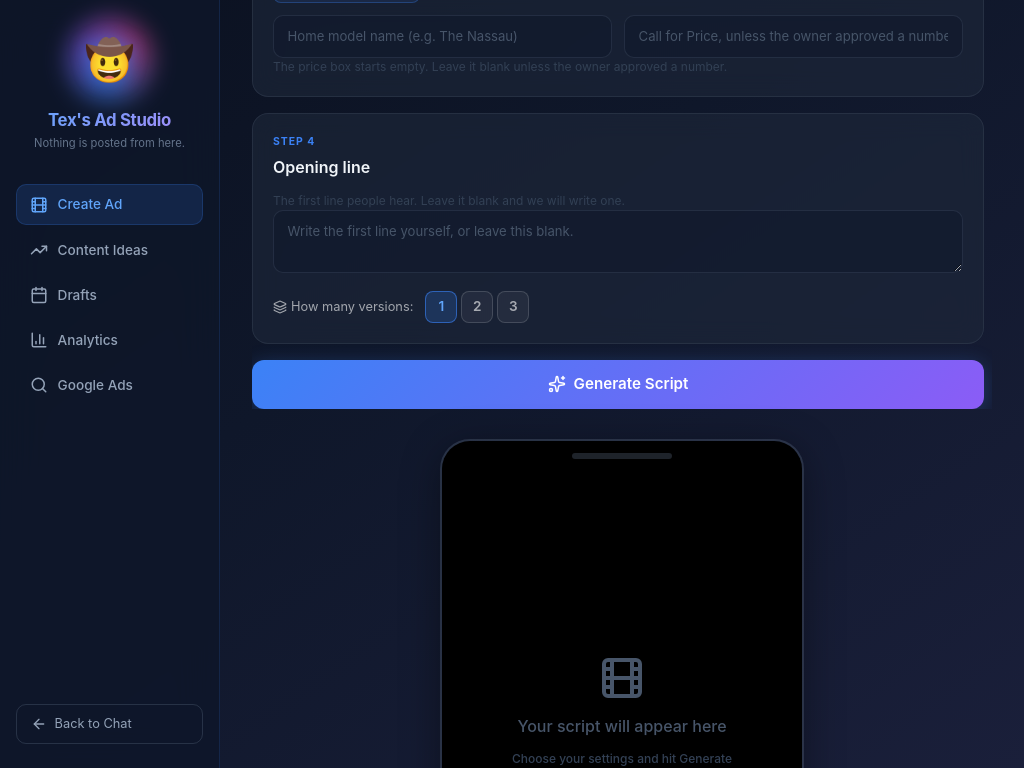
Test case: Ad Studio prepare draft › keeps the preview open when preparation returns an error field on HTTP 200
This screenshot has width=1024, height=768.
(page scrolled)
Click the button "Generate Script" at [618, 384], box [252,360,984,410]
(page scrolled)
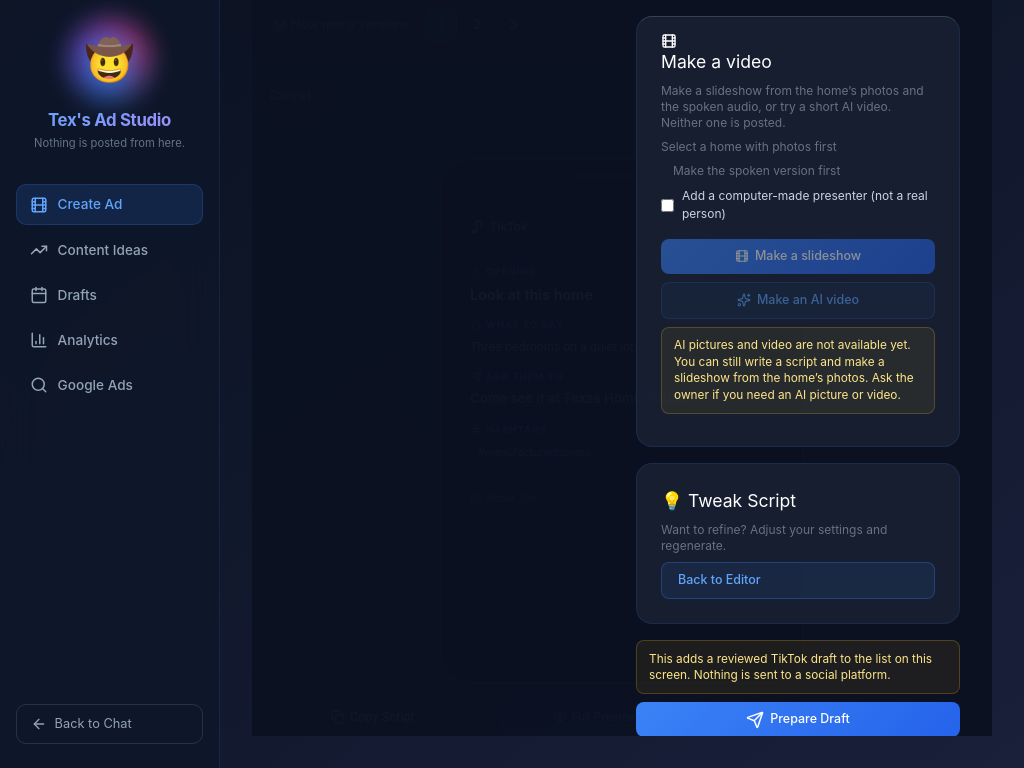
Click the button "Prepare Draft" at [798, 720], box [636,702,960,737]
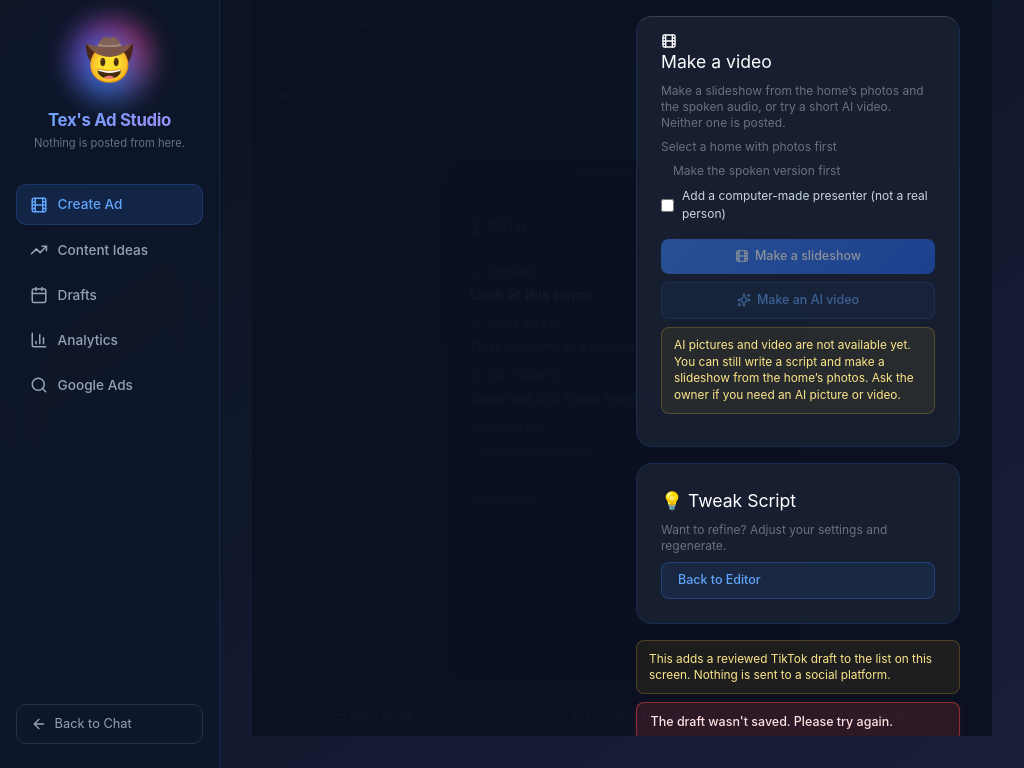
Check: the message reads "The draft wasn't saved. Please try again.", box [651,714,893,729]
